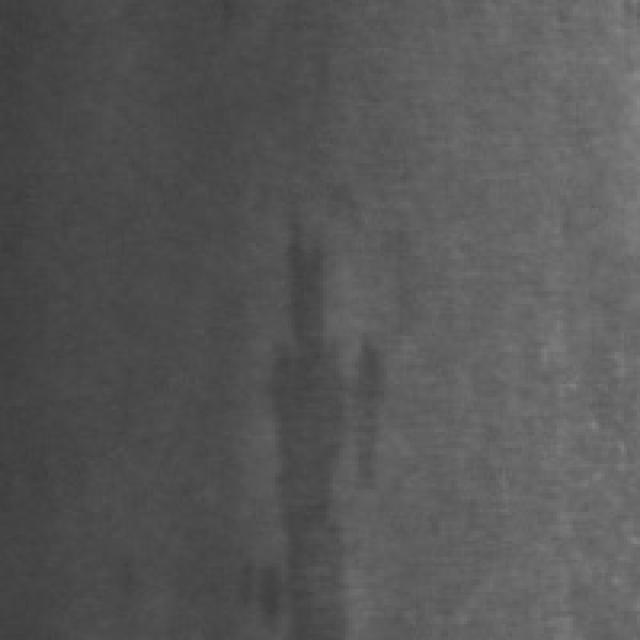inclusion: (249, 218, 396, 630)
